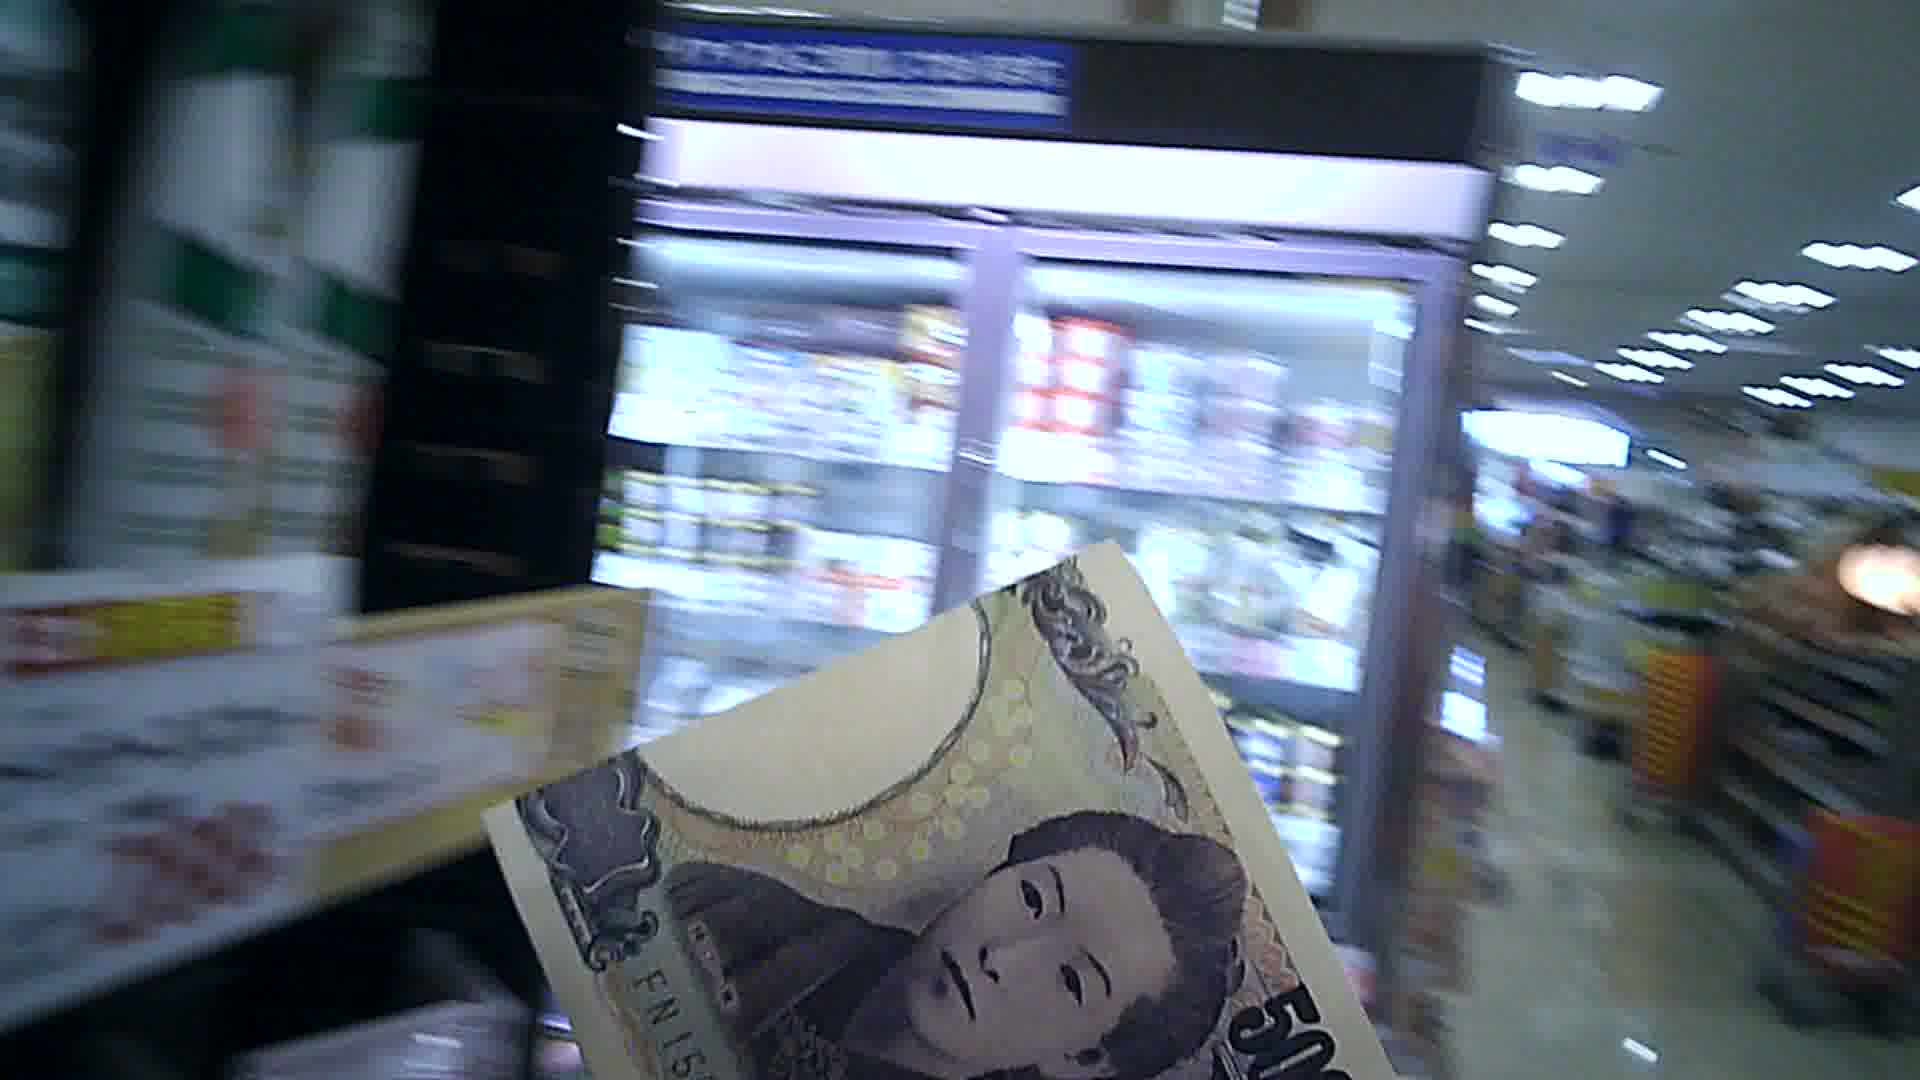5,000 Yen: (495, 551, 1418, 1079)
